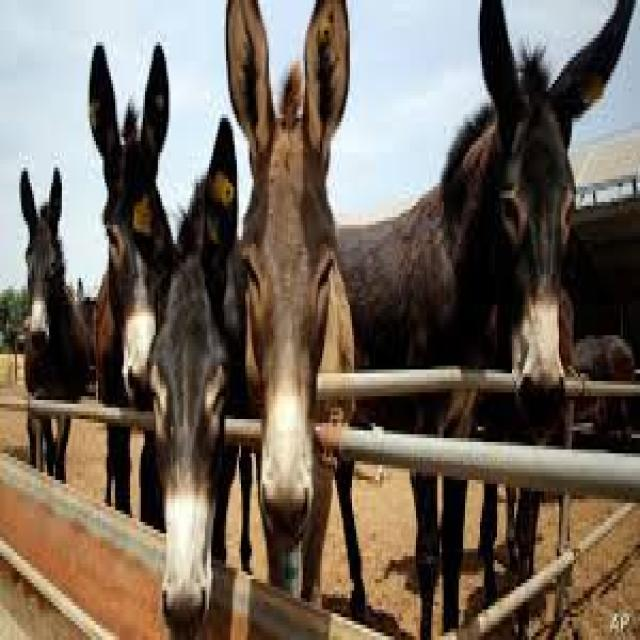Donkey: (346, 0, 640, 640), (215, 0, 386, 632), (80, 33, 182, 553), (6, 149, 96, 515)
